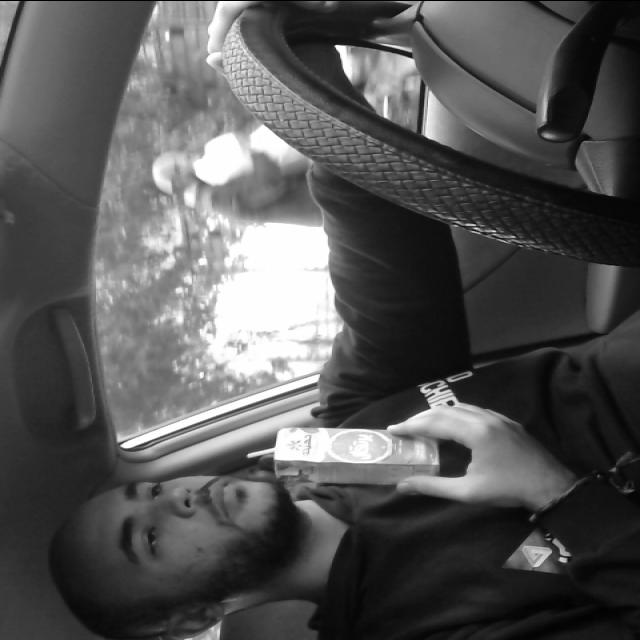drinking: (242, 420, 446, 488)
